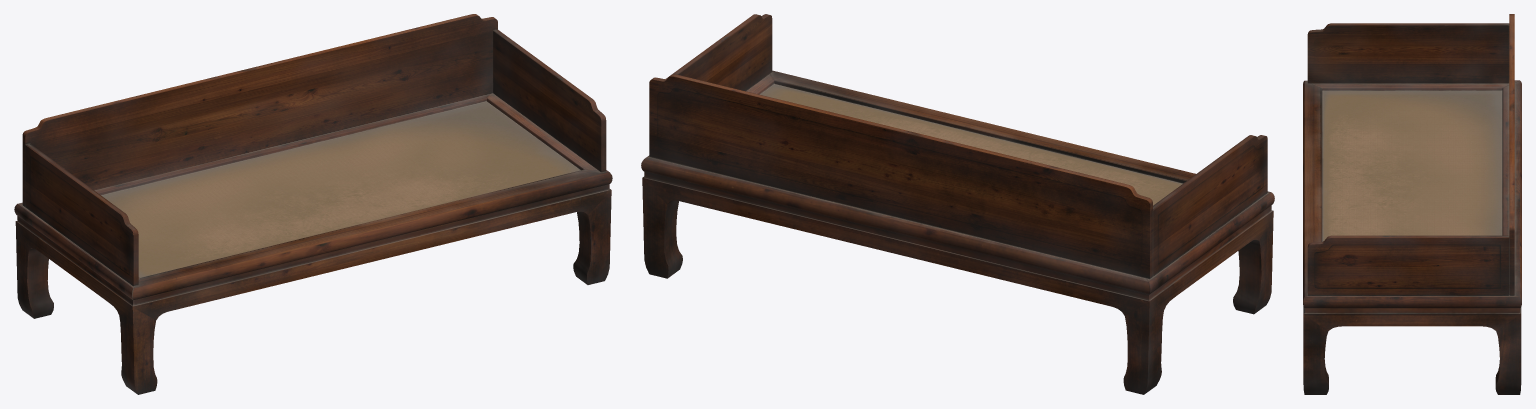
The model's file is chinese_sofa_2k.gltf.
3 renders of one model, left to right at view 1: azimuth 30°, elevation 25°; view 2: azimuth 150°, elevation 25°; view 3: azimuth 270°, elevation 25°, orthographic. The views are drawn at different scales.
Visible parts, largest first — view 1: chinese_sofa; view 2: chinese_sofa; view 3: chinese_sofa.
Boxes of the visible parts, x1=… form: chinese_sofa: x1=14, y1=14, x2=612, y2=394; chinese_sofa: x1=641, y1=14, x2=1274, y2=394; chinese_sofa: x1=1303, y1=14, x2=1521, y2=394.
Bounding box in the file's own units: 2.29 × 0.86 × 0.9689.
